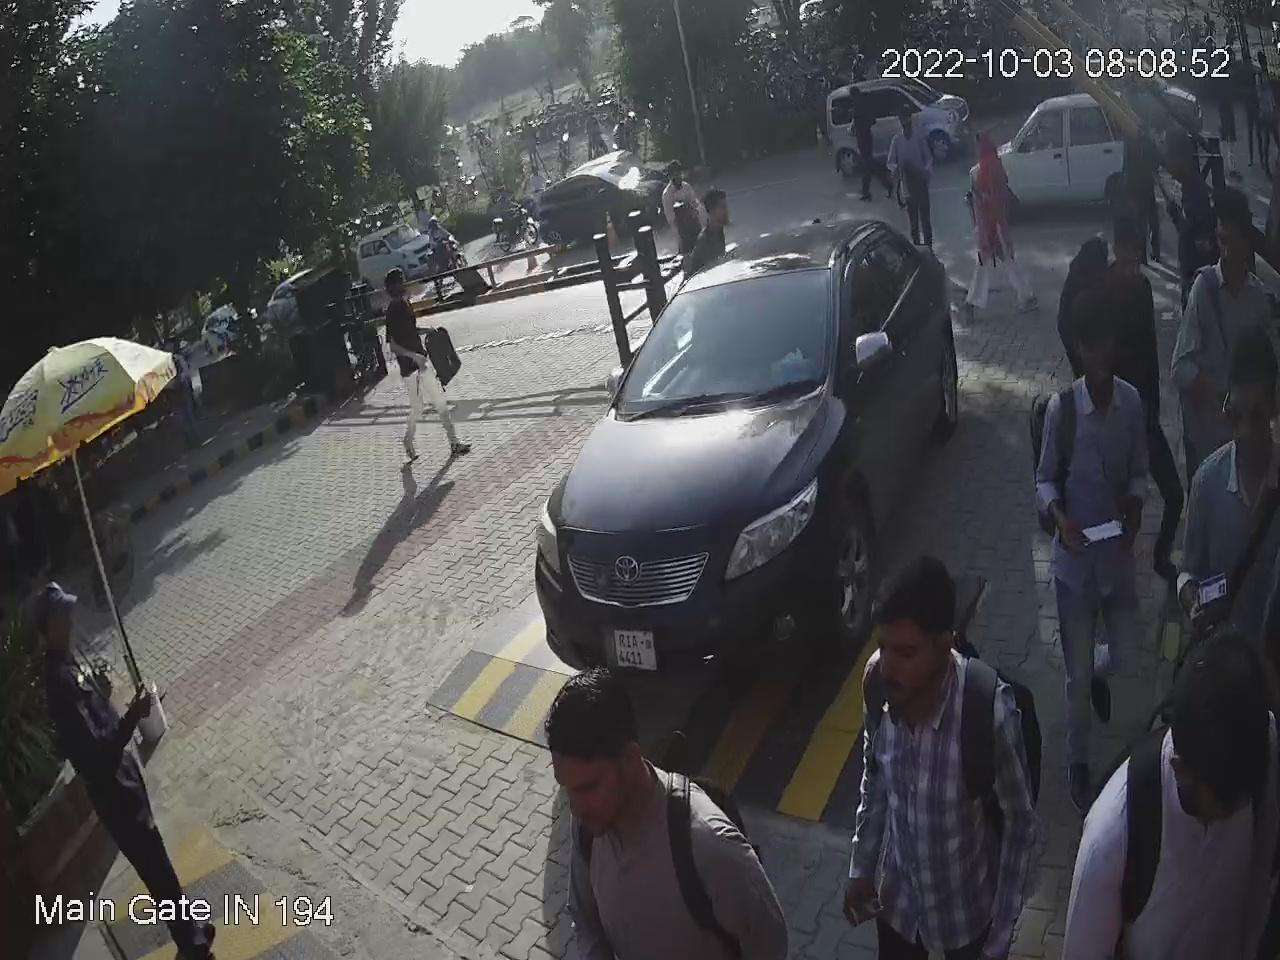windshield: (621, 260, 846, 410)
